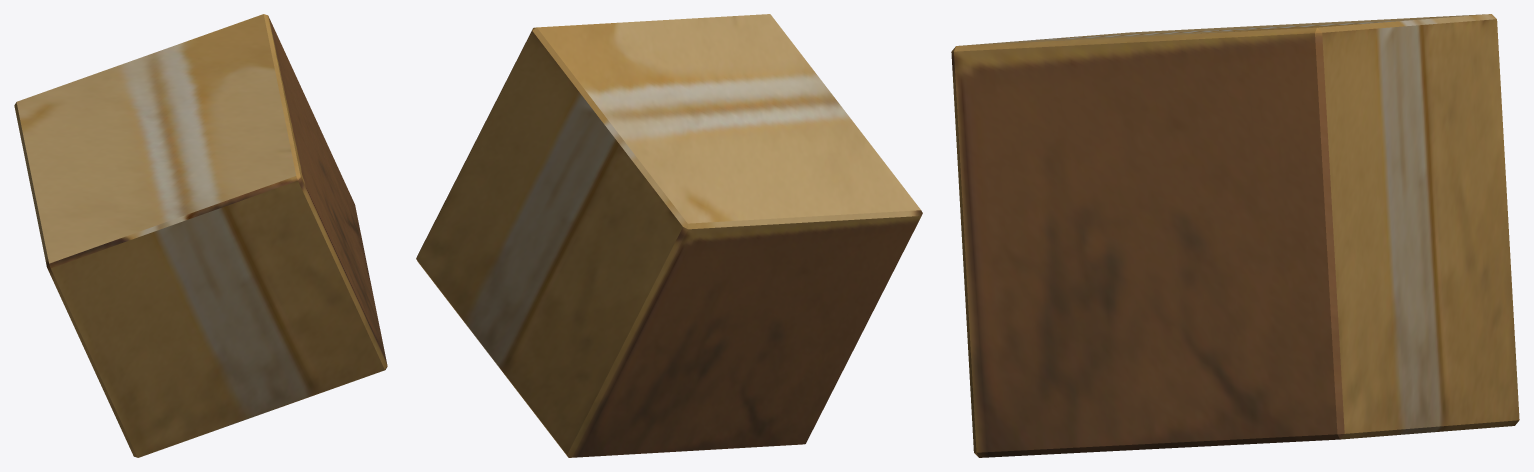
Rendered from PA_Cardboard_Box2.fbx.
3 views of the same model, side by side, from view 1: azimuth 30°, elevation 25°; view 2: azimuth 150°, elevation 25°; view 3: azimuth 270°, elevation 25° (orthographic). The views are drawn at different scales.
Visible parts, largest first — view 1: Cube.001; view 2: Cube.001; view 3: Cube.001.
Part boxes in pixels (x1,y1,x2,y2): Cube.001: (14,14,387,457); Cube.001: (416,14,922,457); Cube.001: (951,14,1519,457).
Bounding box in the file's own units: 0.3616 × 0.3931 × 0.3388.
